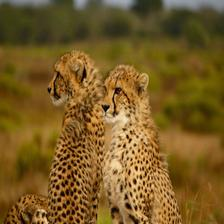Cheetah: (4, 49, 106, 222), (98, 64, 179, 224)
